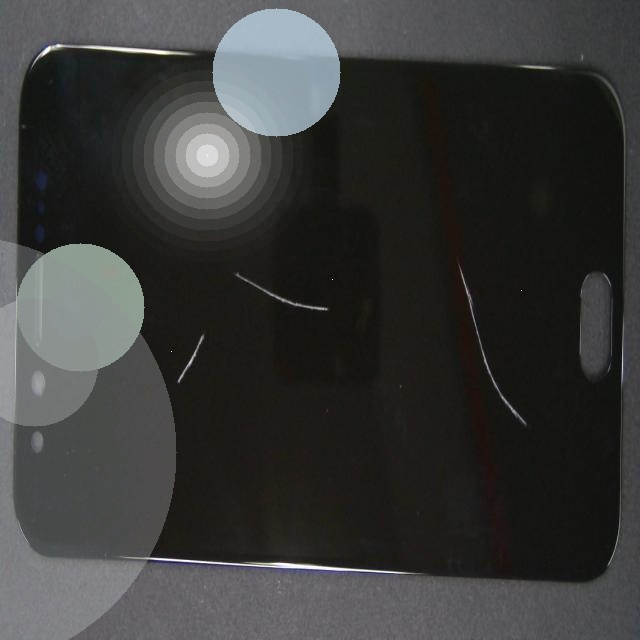scratch: (235, 111, 640, 394), (73, 179, 263, 596), (120, 97, 342, 393)
